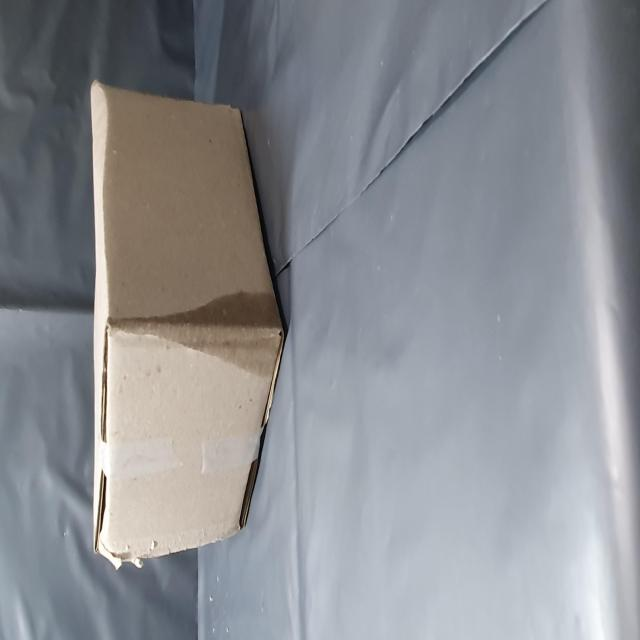wet: (145, 301, 200, 499)
